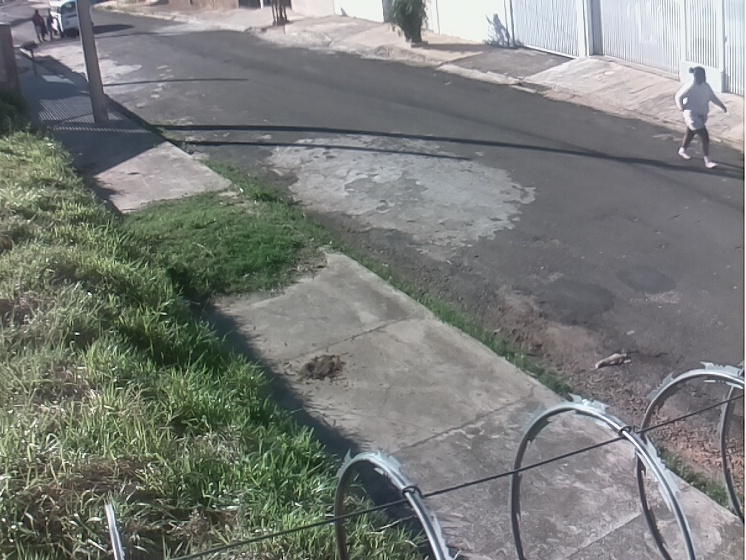person: (674, 66, 728, 170), (31, 8, 46, 44), (43, 8, 55, 43)
